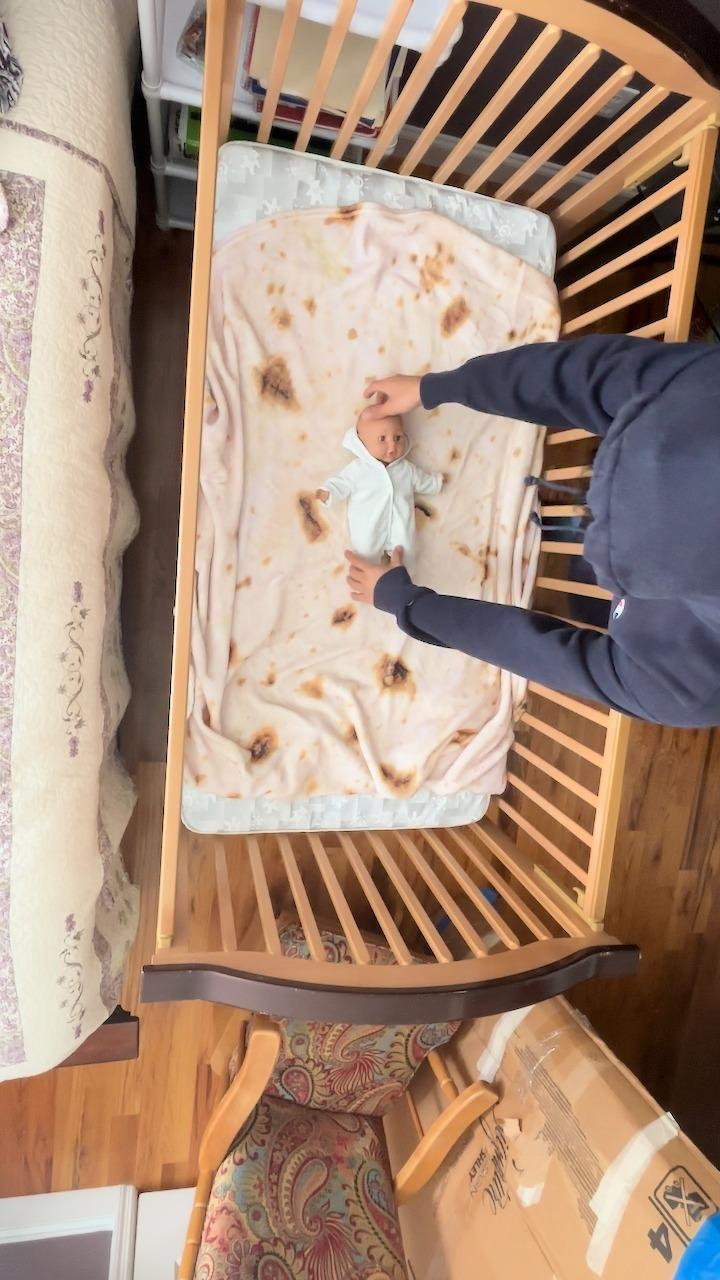baby: (315, 394, 456, 595)
